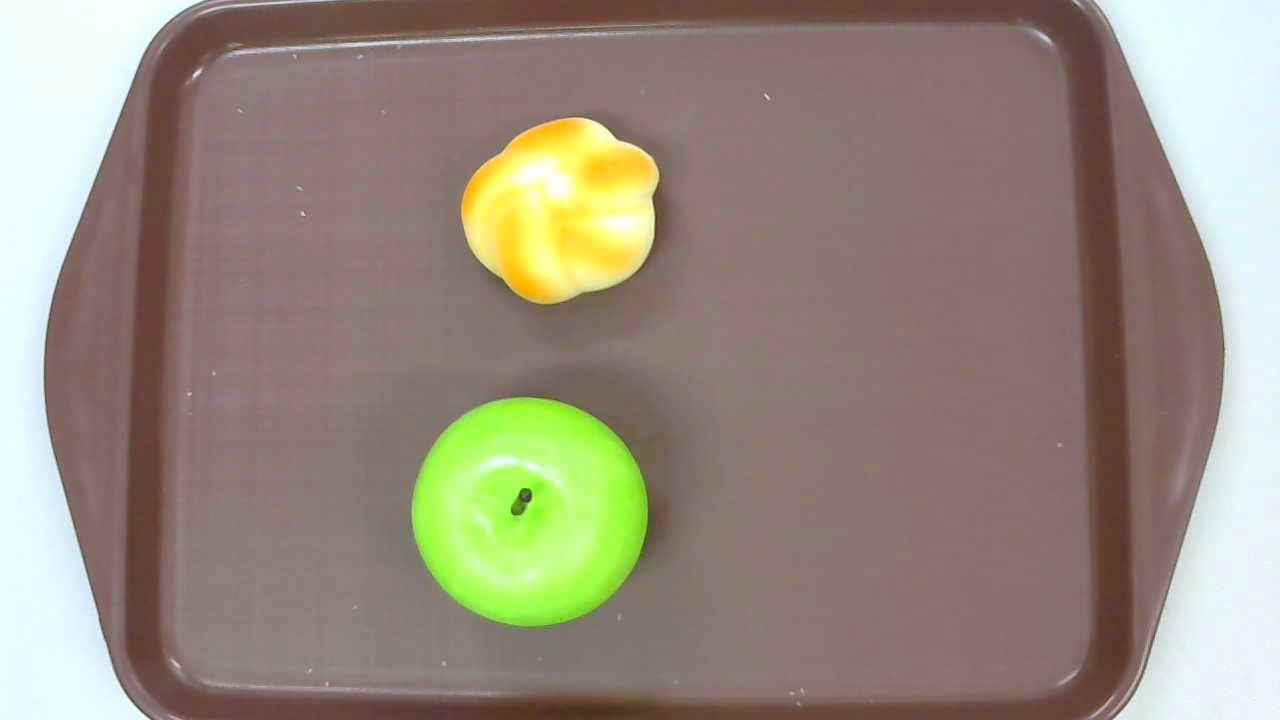green apple: (410, 397, 648, 627)
twist bread: (461, 116, 662, 305)
